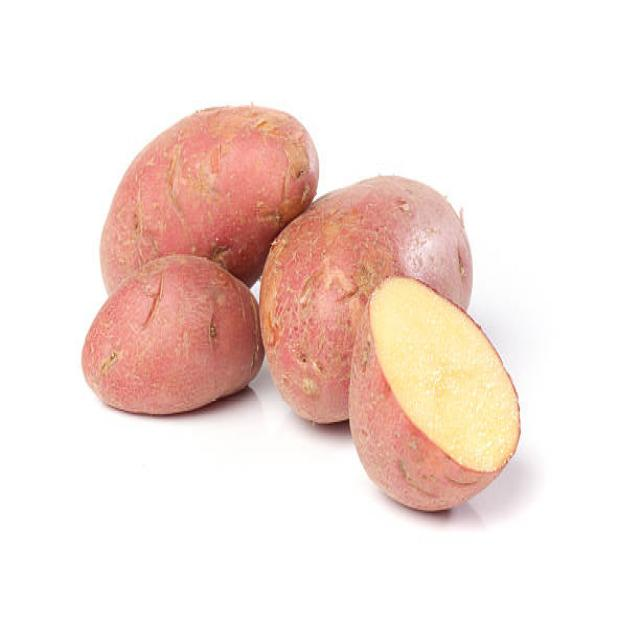sweet potato: (352, 271, 522, 515), (78, 251, 260, 415), (143, 98, 318, 208), (260, 219, 347, 431)
